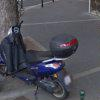Motorcycle: (3, 18, 74, 100)
